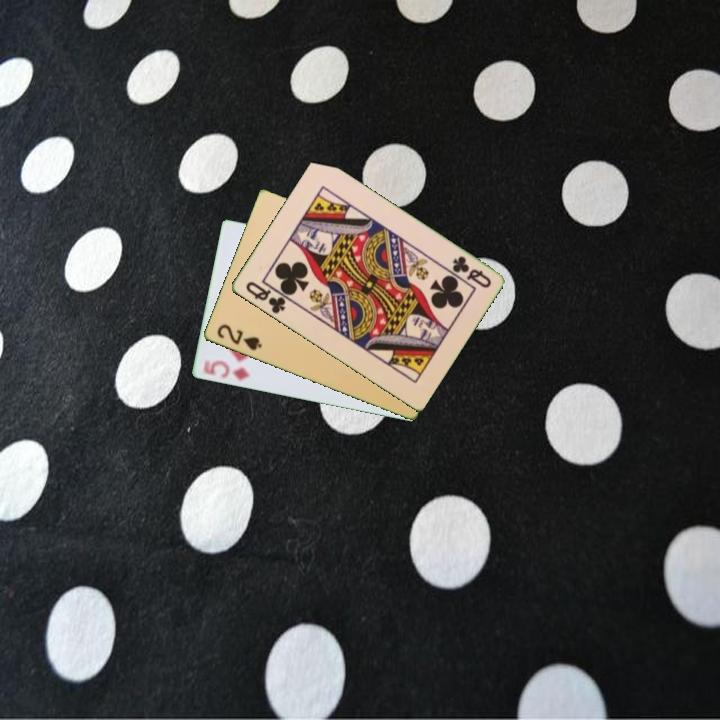2s: (213, 321, 265, 354)
5d: (199, 357, 253, 384)
Qc: (242, 278, 288, 317), (448, 252, 494, 291)
